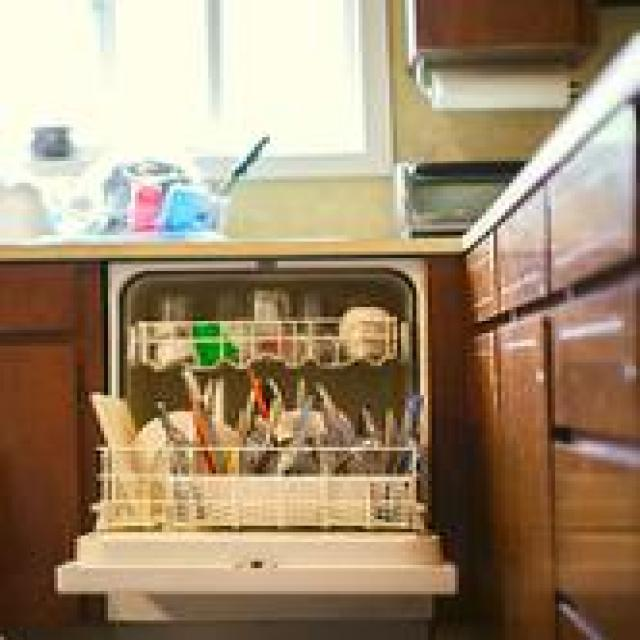dishwasher: (50, 255, 455, 591)
